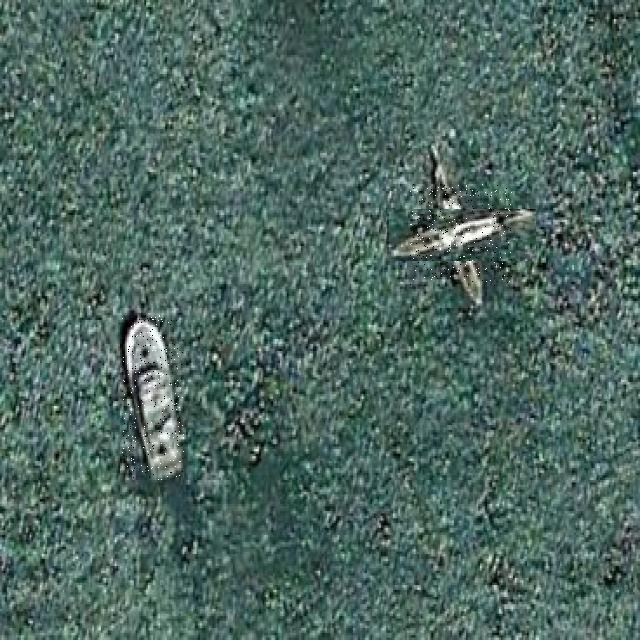boat: (410, 184, 512, 286), (122, 315, 184, 480)
